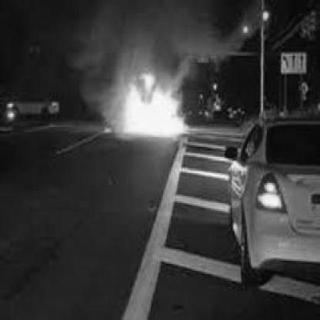Smoke: (82, 3, 234, 63)
